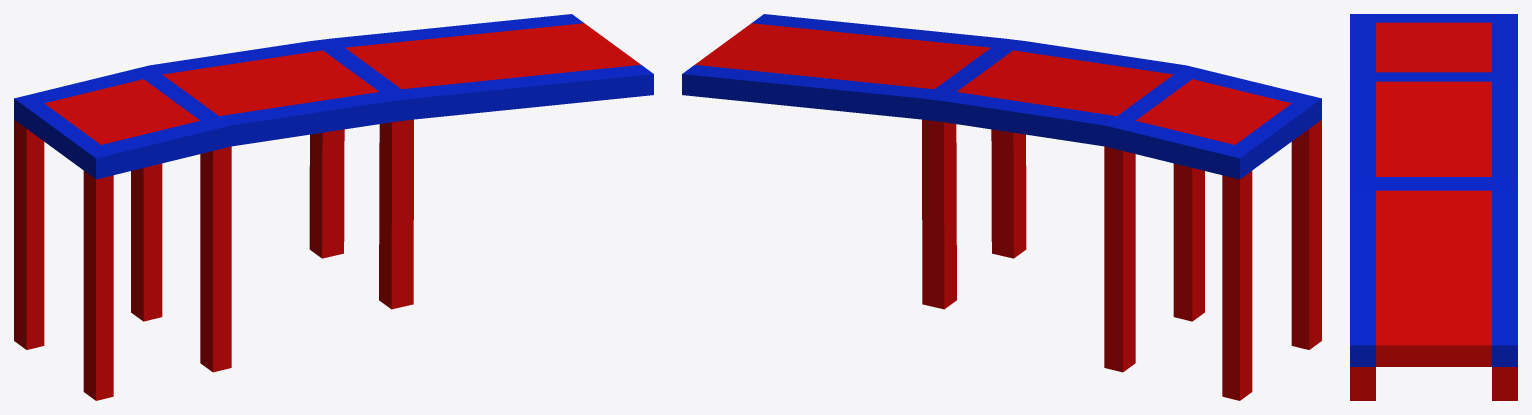
File: PlateformeSol4.FBX
3 renders of one model, left to right at view 1: azimuth 30°, elevation 25°; view 2: azimuth 150°, elevation 25°; view 3: azimuth 270°, elevation 25°, orthographic. The views are drawn at different scales.
Parts seen in each view (by area): view 1: Box006; view 2: Box006; view 3: Box006.
Boxes of the visible parts, left/top/right/bottom form: Box006: left=14, top=14, right=653, bottom=400; Box006: left=682, top=14, right=1321, bottom=400; Box006: left=1350, top=14, right=1517, bottom=400.
Bounding box in the file's own units: 454 × 189 × 116.
